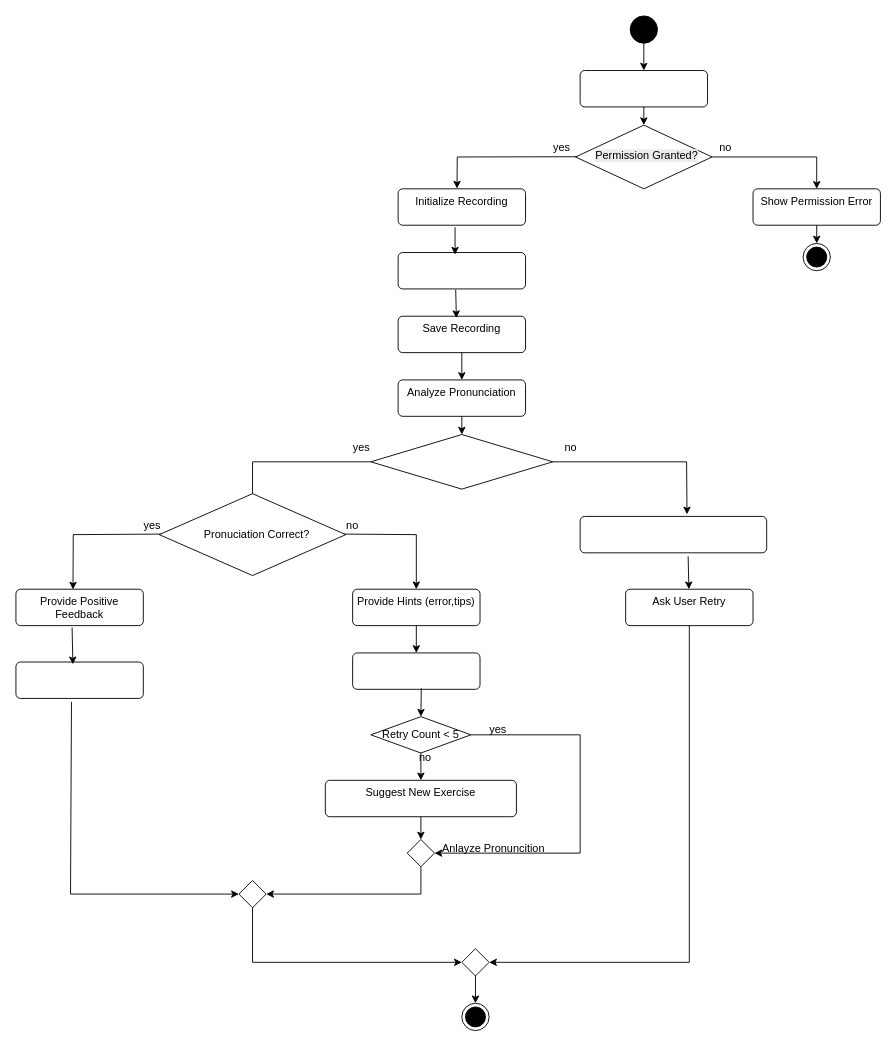
This 896x1047 diagram has some shape labels left out. The shapes that lost their labels are listed below. From the top down, each one's centre as x and y in pixels, then its label:
the point at 643,88: Check Microphone Permission
the point at 461,270: Record Voice
the point at 461,461: Recording Quality ?
the point at 673,534: Show Recording Error (Noise/Failed)
the point at 79,679: Adding Points
the point at 416,670: Increment Retry Count
